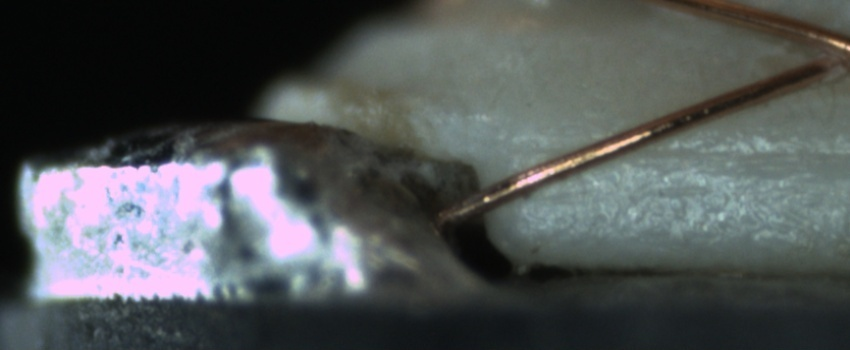DL: (526, 122, 849, 184)
